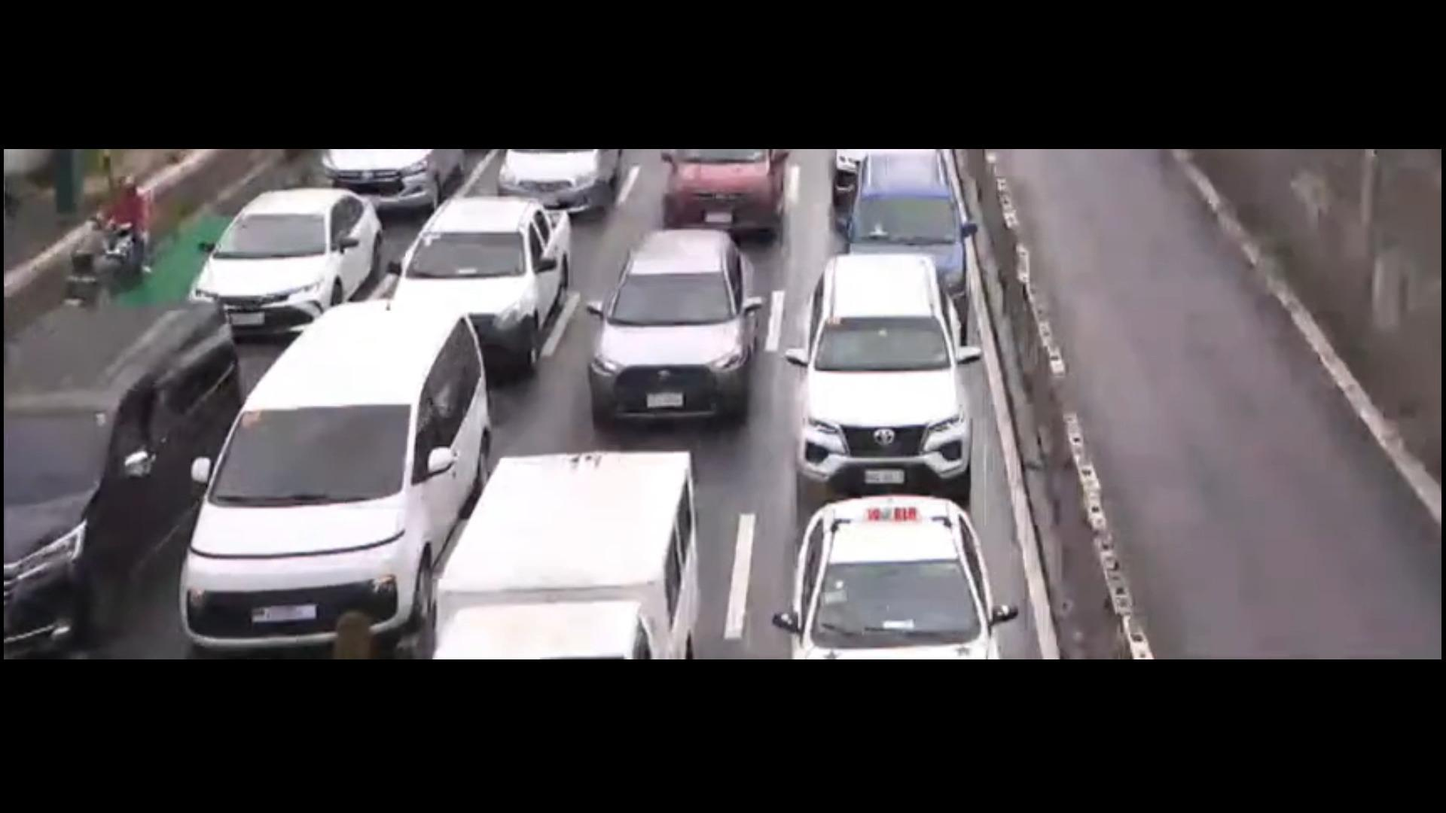Motorcycle: (50, 164, 183, 310)
Multicab: (424, 443, 718, 659)
Pickup: (387, 194, 571, 362)
SUV: (777, 243, 989, 499)
Sedan: (771, 488, 1025, 660), (581, 222, 782, 438), (169, 179, 394, 338)
Van: (187, 292, 520, 656), (0, 283, 270, 671)
